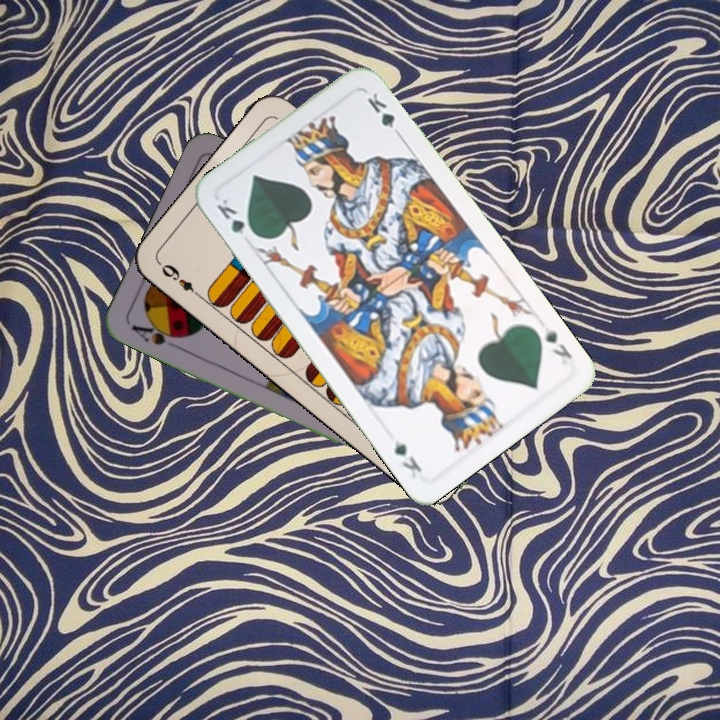E9: (157, 260, 205, 301)
GK: (212, 193, 260, 240), (539, 323, 575, 362)
SA: (127, 317, 186, 348)
